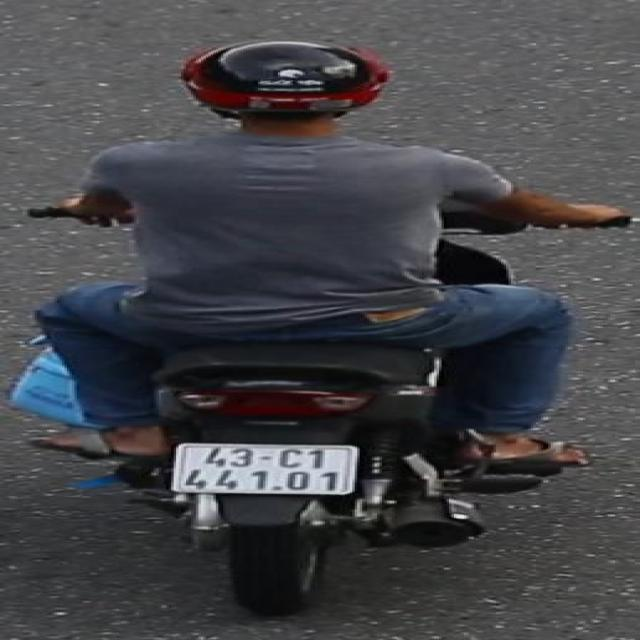LP: (170, 440, 366, 500)
helmet: (171, 34, 395, 154)
